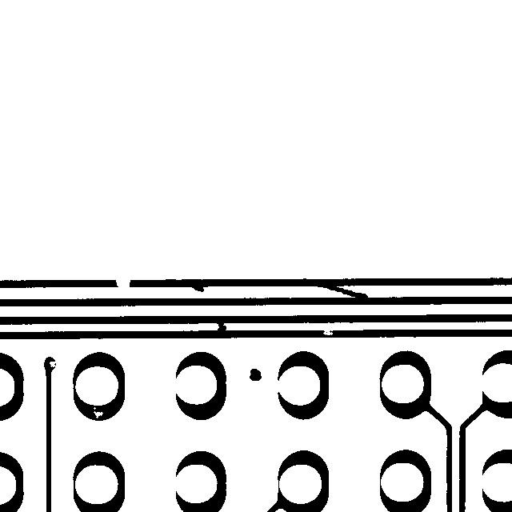copper: (242, 361, 269, 388)
mousebite: (315, 321, 341, 342), (42, 354, 63, 374)
open: (108, 270, 138, 296)
pin-hole: (86, 399, 110, 426)
short: (294, 270, 375, 307), (208, 314, 234, 339)
spur: (180, 274, 211, 299)
